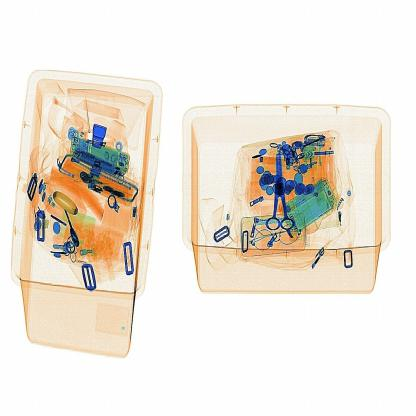gun: (265, 146, 303, 240)
